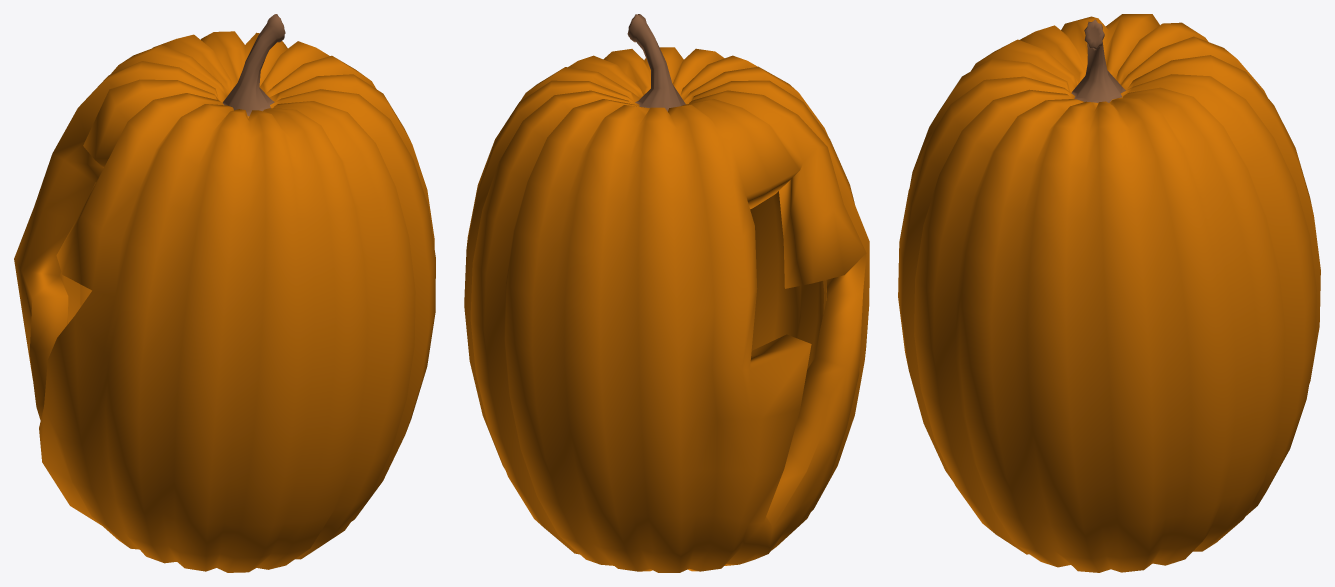
File: pumpkin.fbx
The picture shows the model from 3 angles, left to right: view 1: azimuth 30°, elevation 25°; view 2: azimuth 150°, elevation 25°; view 3: azimuth 270°, elevation 25°; orthographic projection. The views are drawn at different scales.
Parts seen in each view (by area): view 1: Pumpkin; view 2: Pumpkin; view 3: Pumpkin.
Boxes of the visible parts, x1=… form: Pumpkin: x1=14, y1=14, x2=435, y2=572; Pumpkin: x1=464, y1=14, x2=869, y2=572; Pumpkin: x1=898, y1=14, x2=1320, y2=572.
Bounding box in the file's own units: 10.38 × 14.39 × 10.18.
